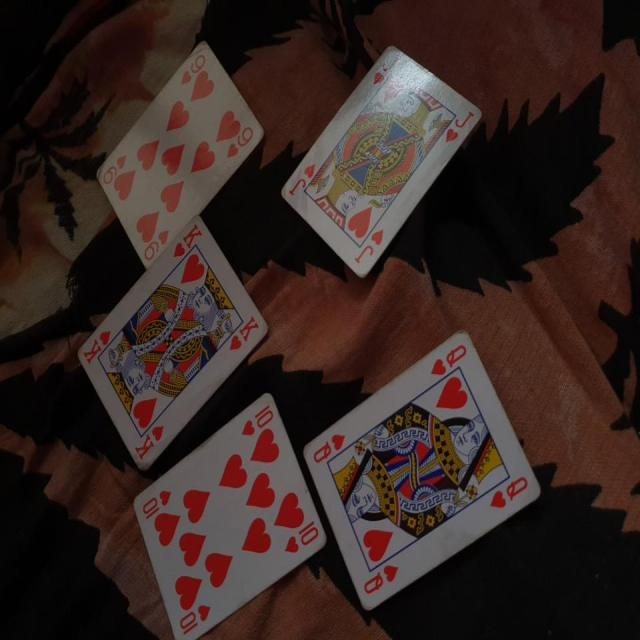10 Hearts: (126, 386, 323, 637)
9 Hearts: (98, 36, 268, 281)
K Hearts: (70, 209, 267, 471)
Q Hearts: (299, 324, 543, 622)
xxxxxxxx: (270, 40, 483, 279)
